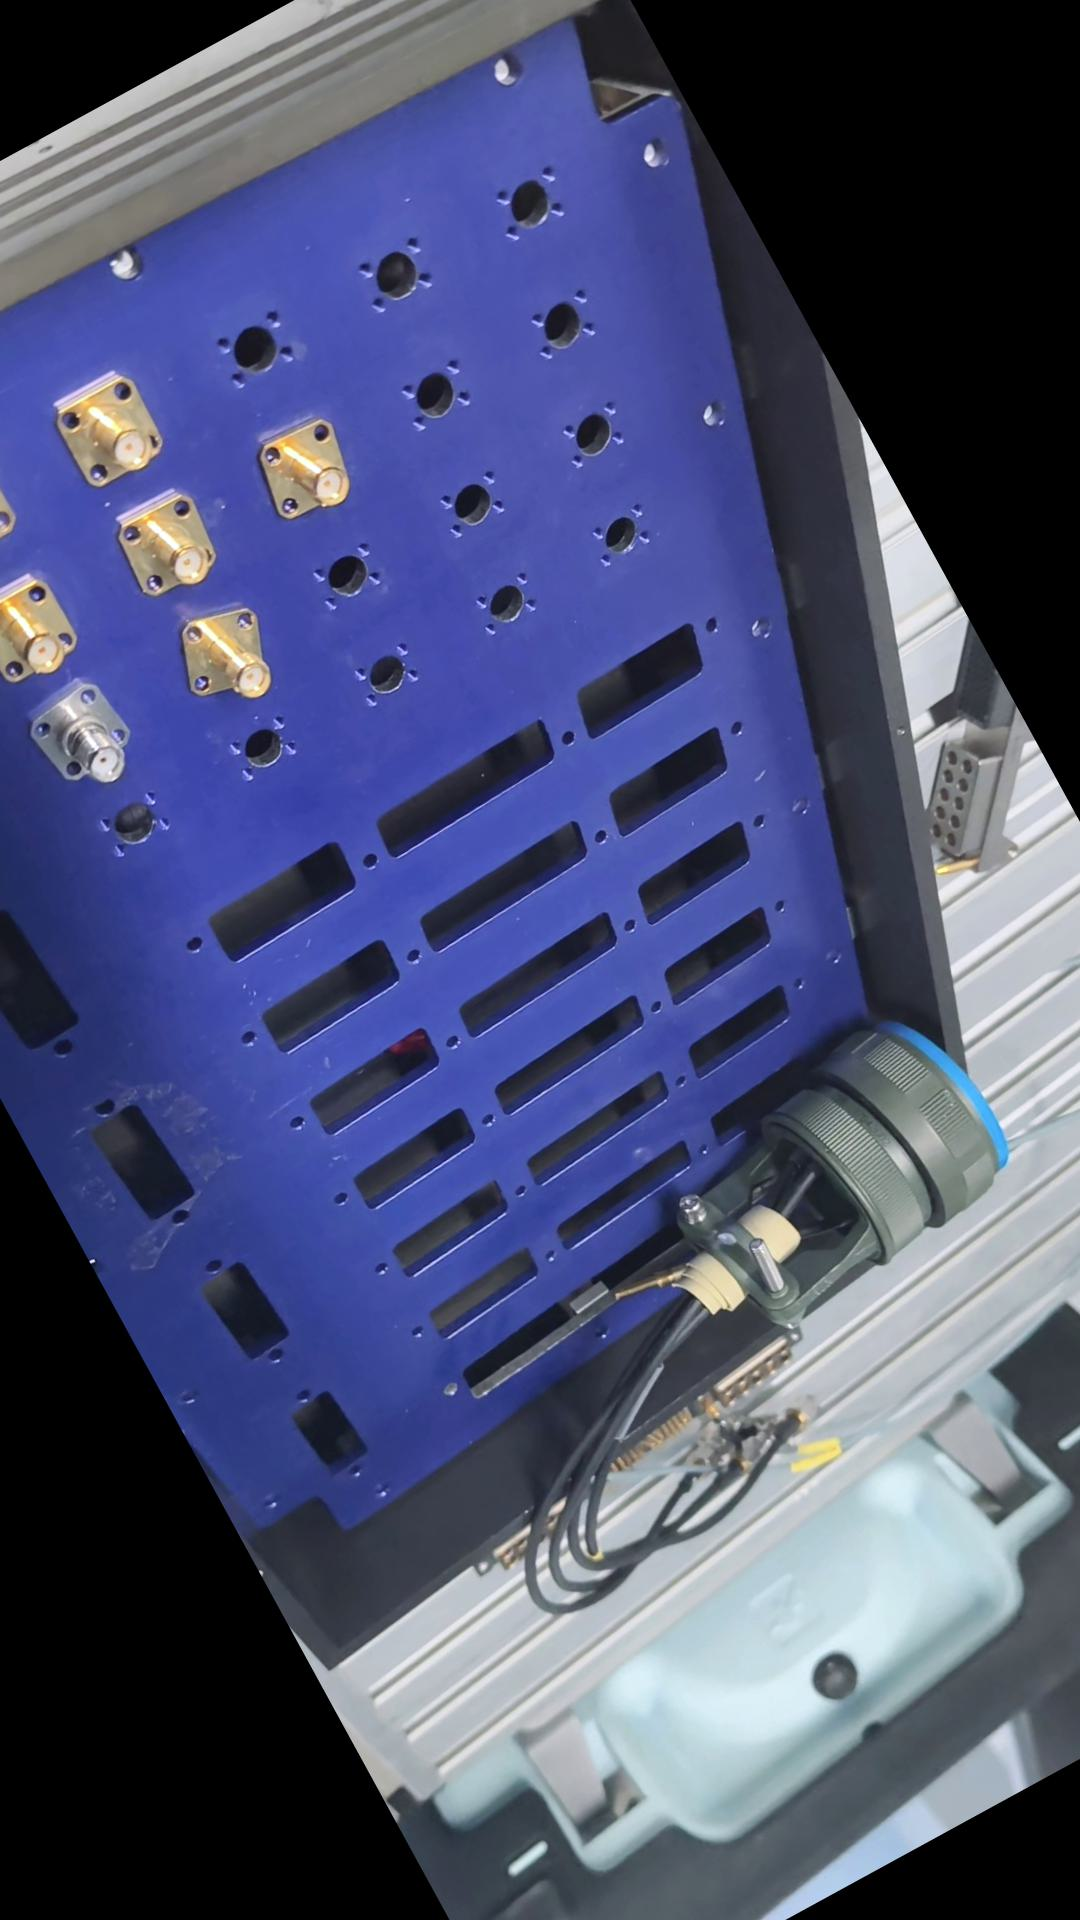SMA: (44, 359, 178, 497), (15, 669, 150, 804), (167, 584, 295, 719), (248, 405, 367, 529), (116, 483, 229, 603), (0, 566, 87, 688), (0, 431, 36, 579)
